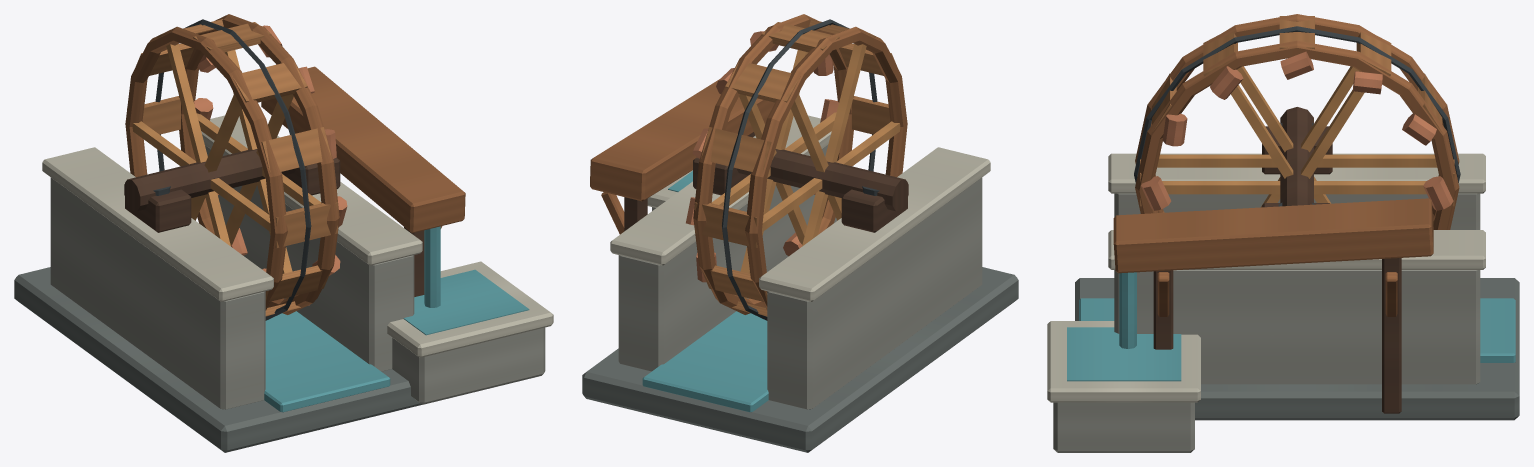
Rendered from field_irrigation_wheel.glb.
The picture shows the model from 3 angles, left to right: view 1: azimuth 30°, elevation 25°; view 2: azimuth 150°, elevation 25°; view 3: azimuth 270°, elevation 25°; orthographic projection. The views are drawn at different scales.
Parts seen in each view (by area): view 1: field_irrigation_wheel; view 2: field_irrigation_wheel; view 3: field_irrigation_wheel.
Part boxes in pixels (x1,y1,x2,y2): field_irrigation_wheel: (14,14,553,452); field_irrigation_wheel: (582,14,1018,452); field_irrigation_wheel: (1047,14,1519,452).
Size of the model in its own units: 1.97 by 1.89 by 2.4.
1 material, 1 textured.
